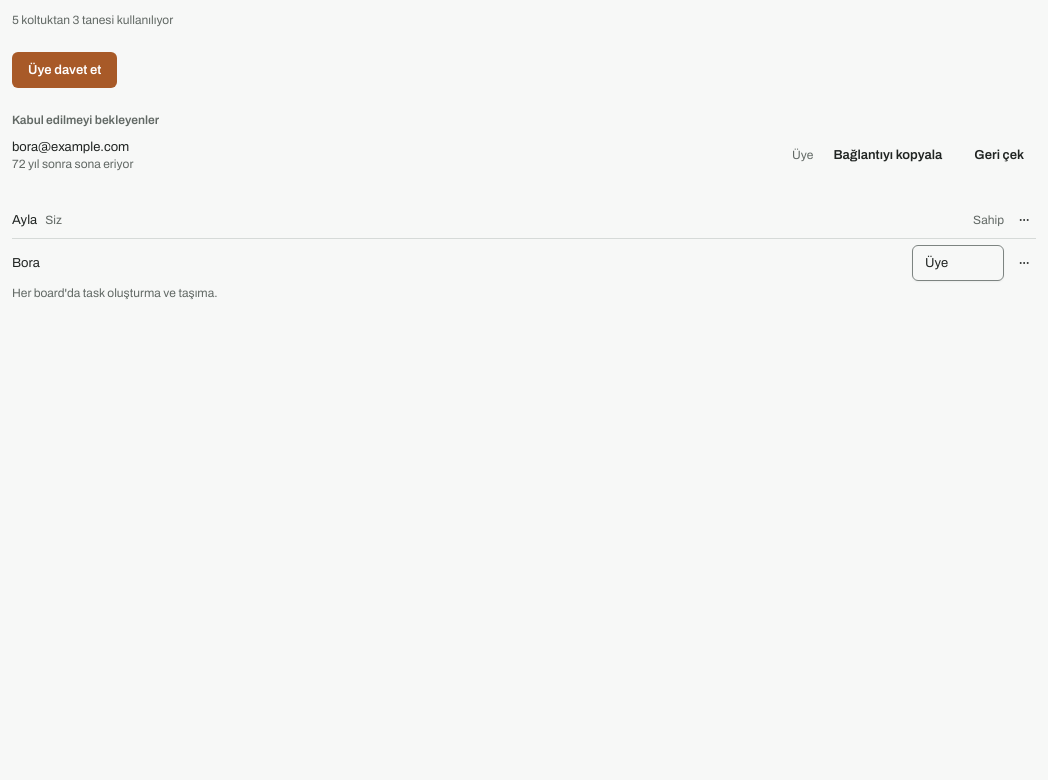
Test: the fifty longest Turkish strings › are drawn in Turkish on components/settings/members-settings.tsx
Click the button "Bağlantıyı kopyala" at {"x": 888, "y": 155}, box top-left (821, 139), bottom-right (954, 171)
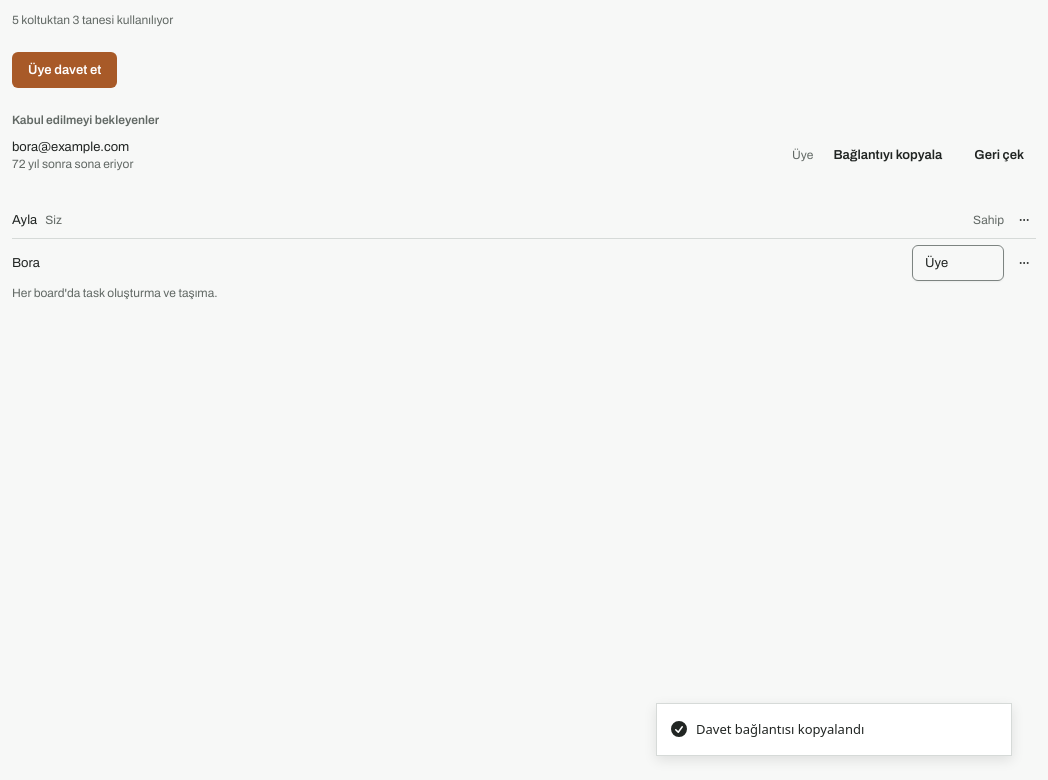
Result: the text "Davet bağlantısı kopyalandı" is shown at top-left (696, 720), bottom-right (864, 739)
Select "Yönetici" in the dropdown named "Bora için rol" at {"x": 958, "y": 263}, box top-left (912, 245), bottom-right (1004, 281)
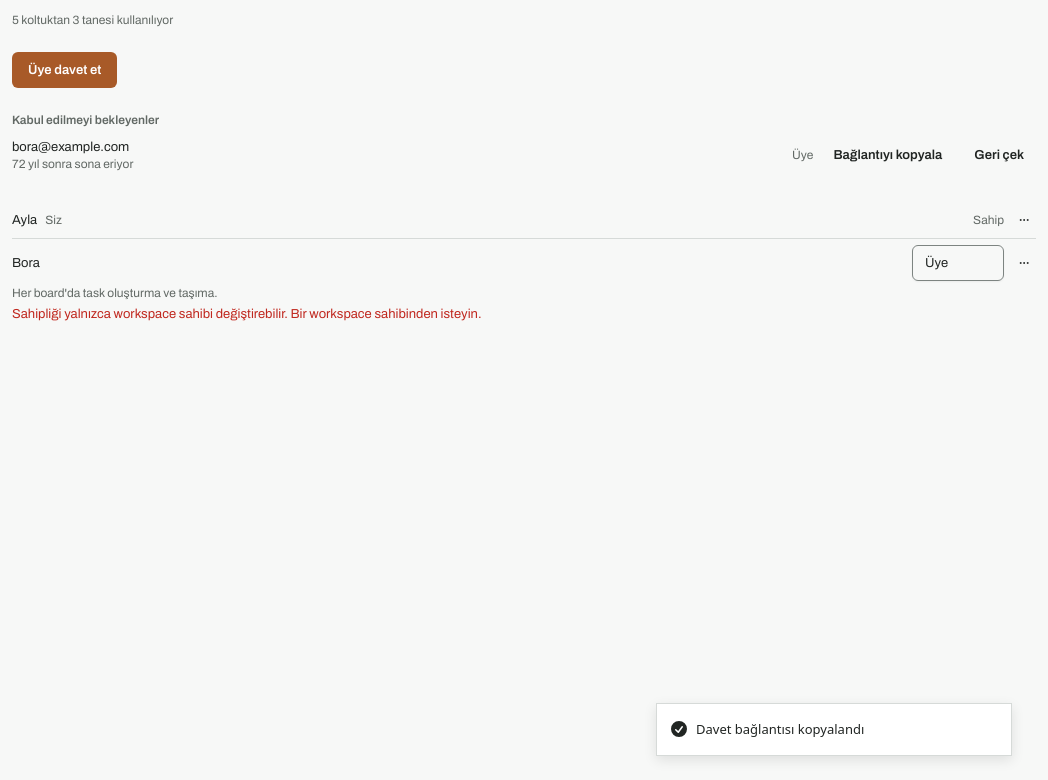
Result: the text "Sahipliği yalnızca workspace sahibi değiştirebilir. Bir workspace sahibinden isteyin." is shown at top-left (12, 307), bottom-right (482, 321)
